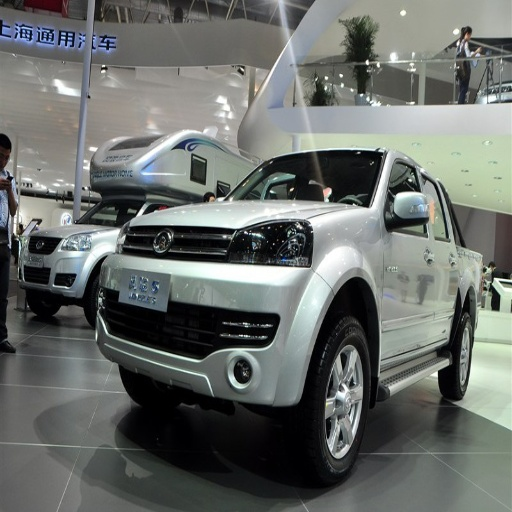front_bumper: (81, 225, 329, 402)
front_glass: (267, 151, 382, 205)
front_left_door: (384, 155, 436, 360)
trunk: (459, 248, 490, 291)
